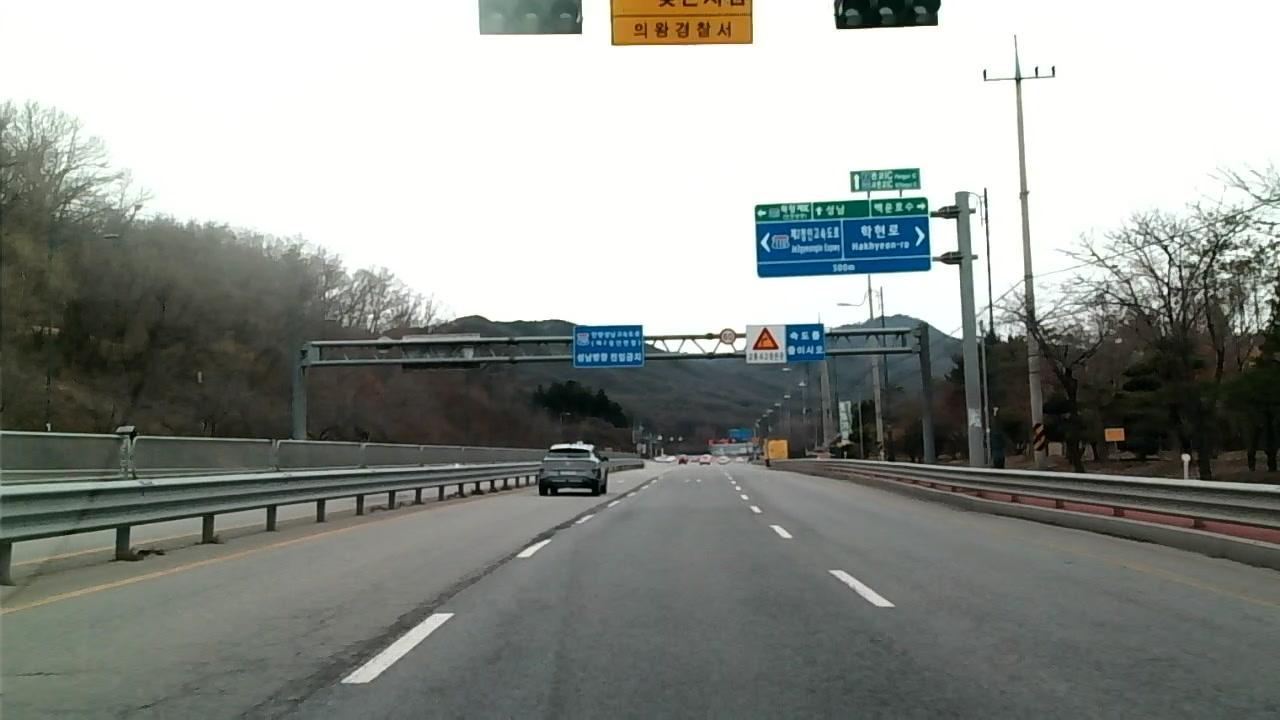banner: (245, 625, 415, 720), (416, 531, 549, 617), (128, 670, 210, 713)
